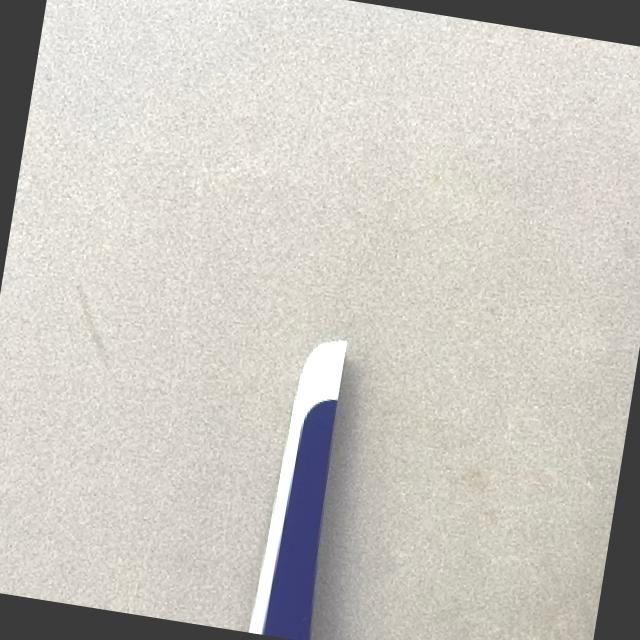healthy: (253, 340, 349, 640)
